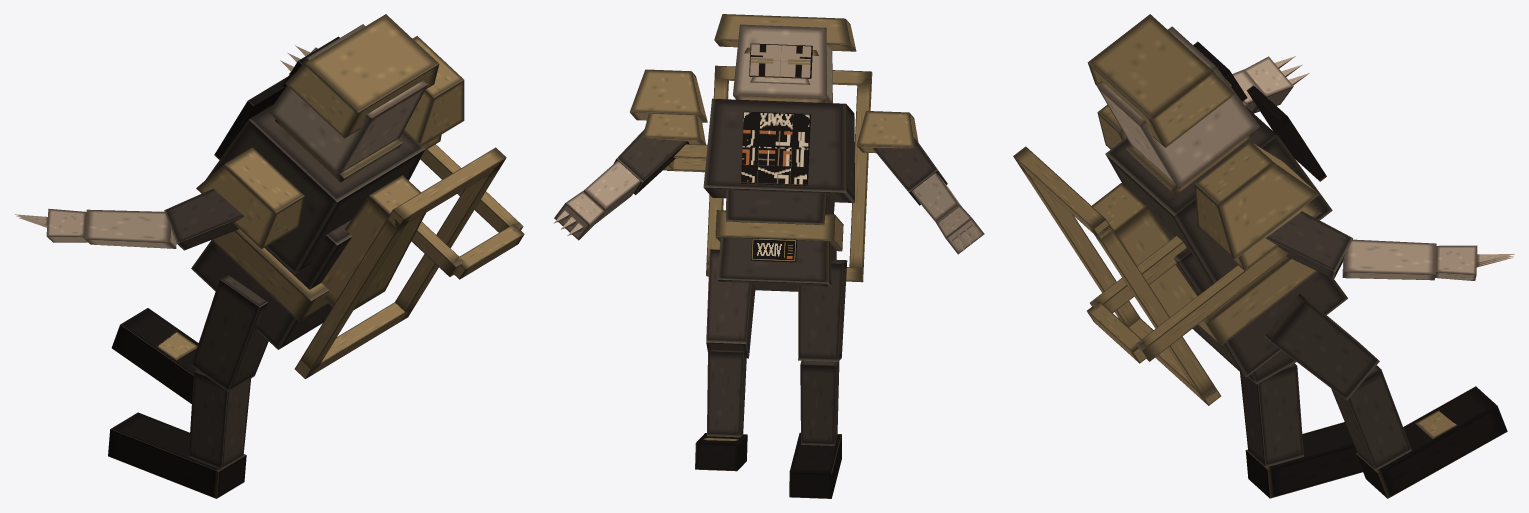
File: jurisiel_death.obj
The picture shows the model from 3 angles, left to right: view 1: azimuth 30°, elevation 25°; view 2: azimuth 150°, elevation 25°; view 3: azimuth 270°, elevation 25°; orthographic projection. The views are drawn at different scales.
Parts seen in each view (by area): view 1: jurisiel_death; view 2: jurisiel_death; view 3: jurisiel_death.
Boxes of the visible parts, x1=… form: jurisiel_death: x1=15, y1=14, x2=524, y2=498; jurisiel_death: x1=553, y1=14, x2=984, y2=498; jurisiel_death: x1=1013, y1=14, x2=1514, y2=498.
Size of the model in its own units: 0.9778 by 0.9839 by 0.9194.
Materials: 1 (1 with a texture image).
